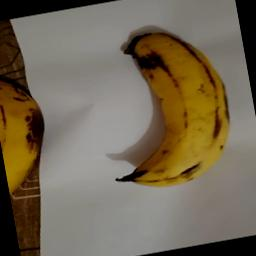Banana Unripe: (96, 20, 246, 199)
